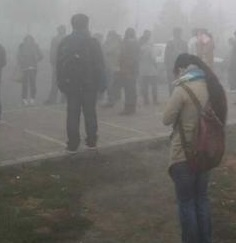person: (164, 51, 228, 242), (51, 9, 106, 155), (45, 22, 77, 107), (115, 23, 143, 117), (137, 29, 166, 107), (15, 31, 42, 108), (164, 25, 193, 96), (99, 28, 124, 107), (196, 27, 215, 67), (228, 31, 236, 88)
